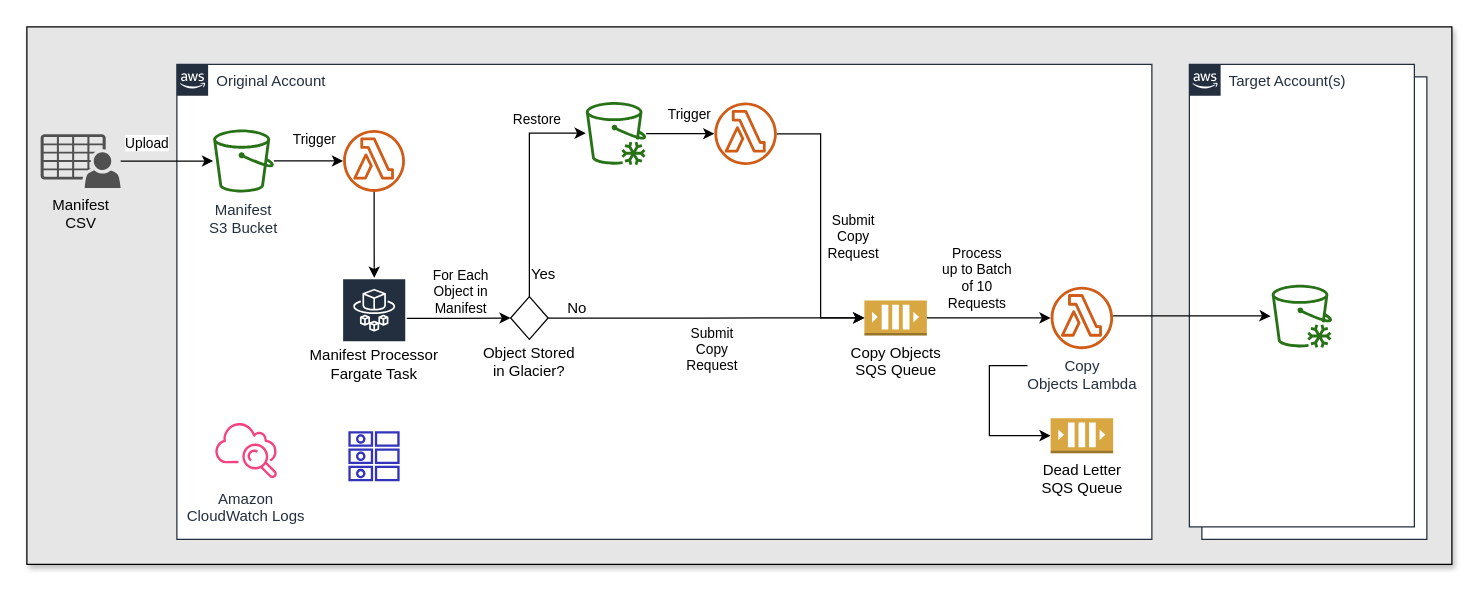
Some shapes in this 1481 by 595 pixel diagram are drawn without their labels. Each missing label, with the centre of its shape:
DynamoDB Tracking Table: pixel 373 455
Glacier S3 Objects: pixel 615 132
Manifest Processor Lambda: pixel 373 160
Restore Event Handler Lambda: pixel 745 133
Target S3 Buckets: pixel 1301 315
